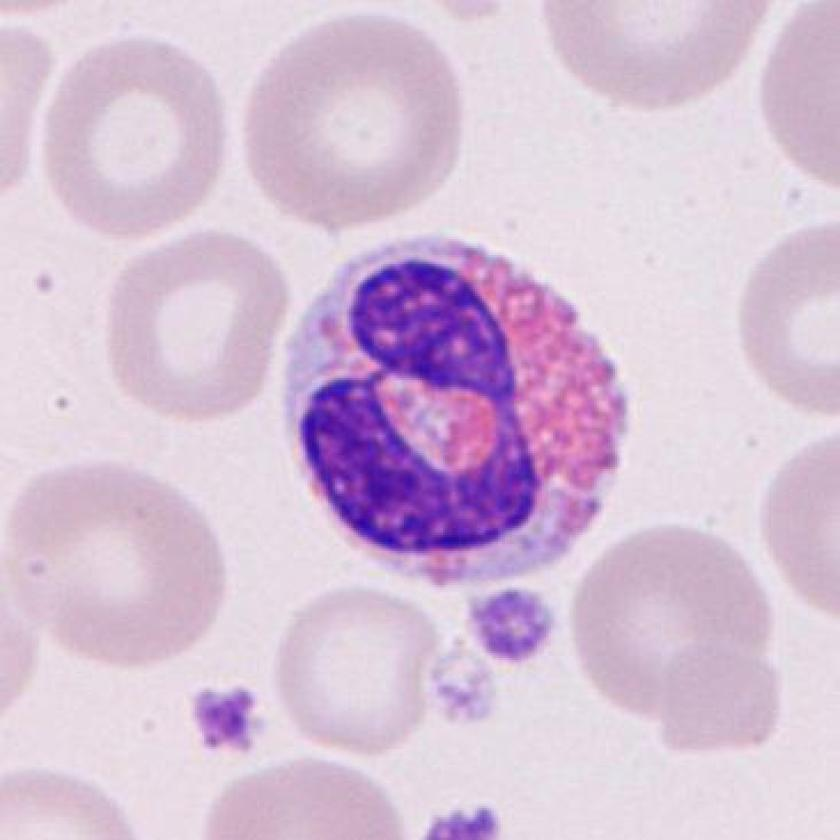eosinophil: (263, 220, 644, 602)
